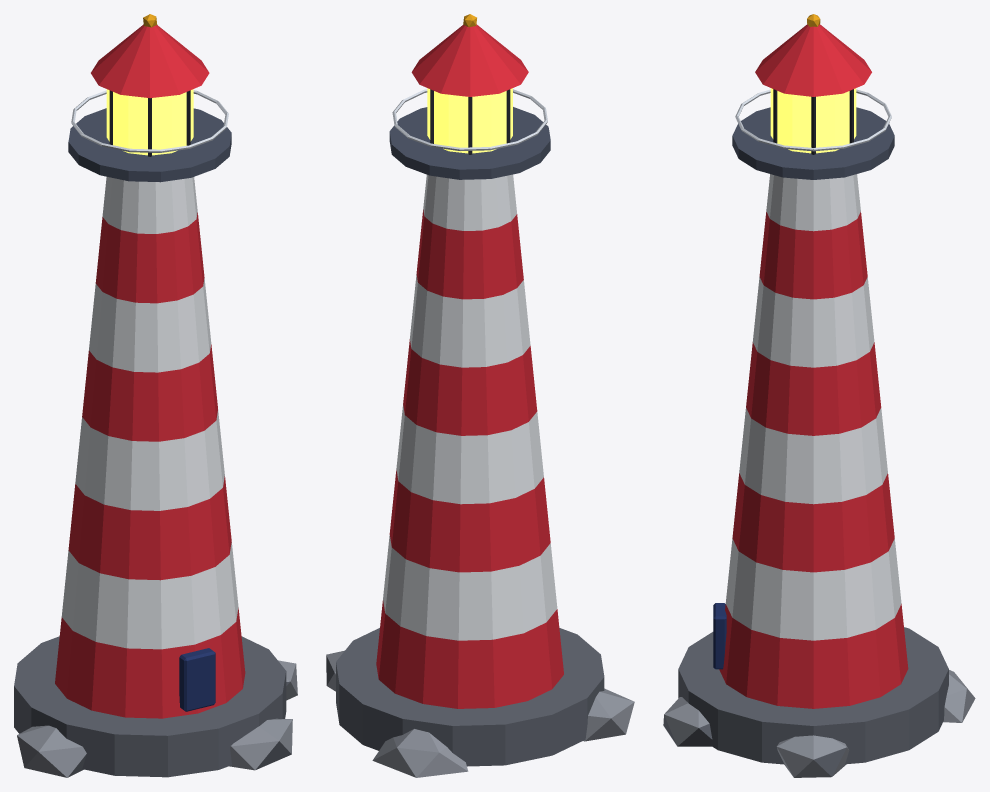
Rendered from Lighthouse.fbx.
The picture shows the model from 3 angles, left to right: view 1: azimuth 30°, elevation 25°; view 2: azimuth 150°, elevation 25°; view 3: azimuth 270°, elevation 25°; orthographic projection.
Visible parts, largest first — view 1: Lighthouse, Neon_Yellow; view 2: Lighthouse, Neon_Yellow; view 3: Lighthouse, Neon_Yellow.
Boxes of the visible parts, left/top/right/bottom form: Lighthouse: left=14, top=14, right=297, bottom=777; Neon_Yellow: left=106, top=89, right=193, bottom=155; Lighthouse: left=326, top=14, right=634, bottom=777; Neon_Yellow: left=427, top=88, right=512, bottom=153; Lighthouse: left=663, top=14, right=975, bottom=777; Neon_Yellow: left=770, top=88, right=856, bottom=153.
Bounding box in the file's own units: 14.54 × 34.14 × 13.85.
Materials: 2 (1 with a texture image).
